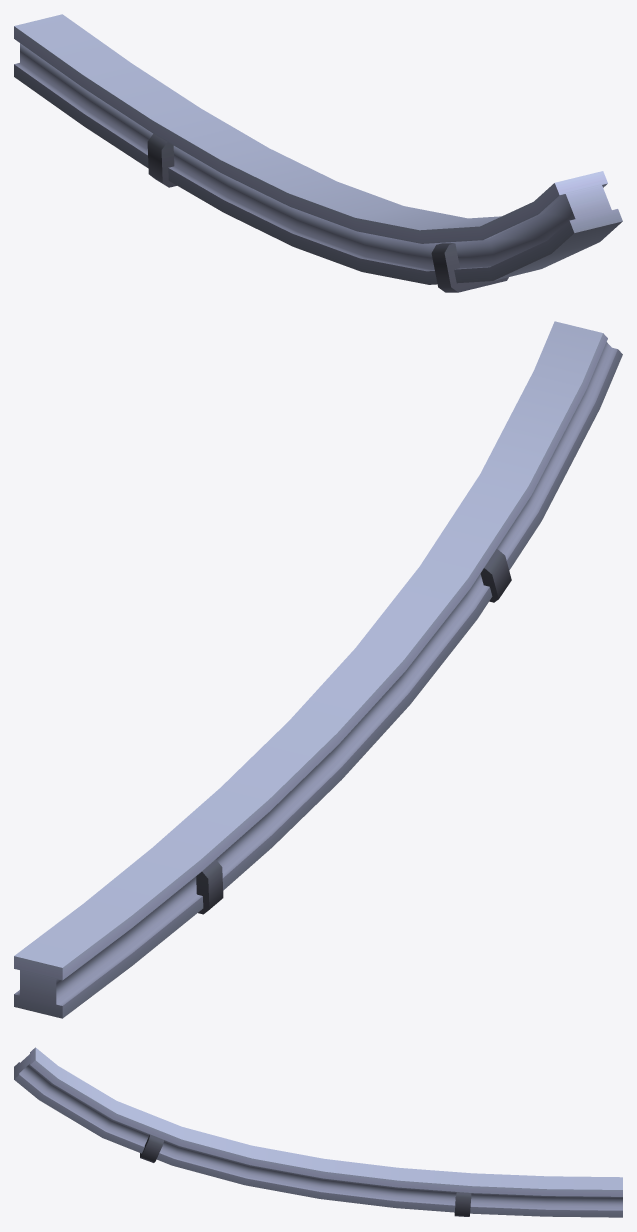
The model's file is kenney-coaster-coaster-monorail-straight-hill-beginning.glb.
The picture shows the model from 3 angles, top to bottom: view 1: azimuth 30°, elevation 25°; view 2: azimuth 150°, elevation 25°; view 3: azimuth 270°, elevation 25°; orthographic projection. The views are drawn at different scales.
Parts seen in each view (by area): view 1: coaster-monorail-straight-hill-beginning; view 2: coaster-monorail-straight-hill-beginning; view 3: coaster-monorail-straight-hill-beginning.
Boxes of the visible parts, left/top/right/bottom form: coaster-monorail-straight-hill-beginning: left=14, top=14, right=622, bottom=292; coaster-monorail-straight-hill-beginning: left=14, top=321, right=622, bottom=1018; coaster-monorail-straight-hill-beginning: left=14, top=1047, right=622, bottom=1217.
Bounding box in the file's own units: 0.25 × 1.14 × 4.
1 material, 1 textured.
